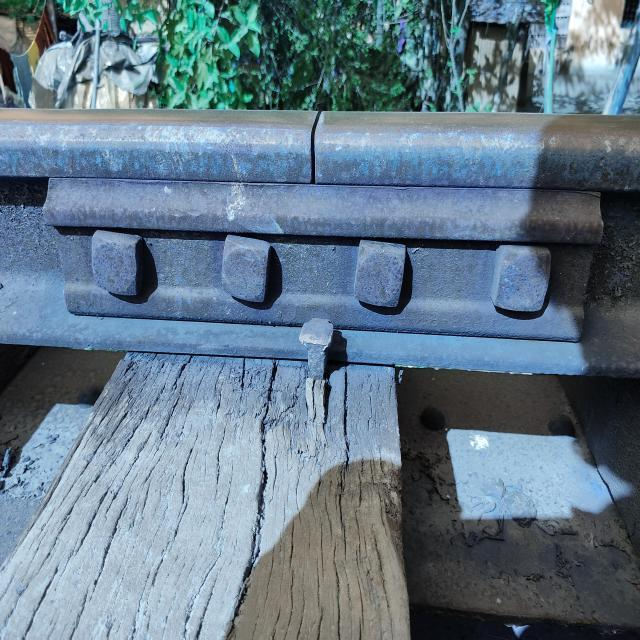Good Fasteners: (299, 319, 333, 380)
Good Joint: (43, 178, 620, 374)
